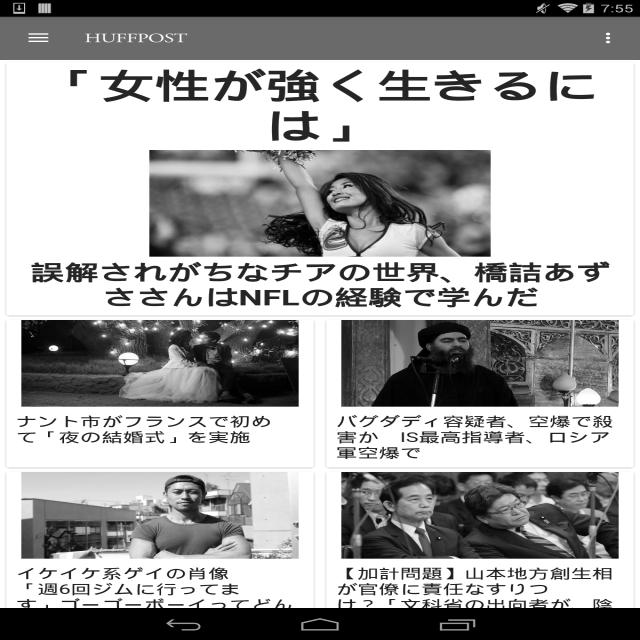ImageButton: (9, 17, 68, 59)
ImageView: (8, 148, 632, 260), (8, 320, 312, 407), (328, 320, 632, 407), (8, 472, 312, 559), (328, 472, 632, 559), (589, 22, 631, 54), (86, 34, 188, 42)
TextView: (8, 67, 632, 147), (8, 259, 632, 312), (8, 559, 312, 634), (328, 559, 632, 634), (328, 406, 632, 466), (8, 407, 312, 451)
